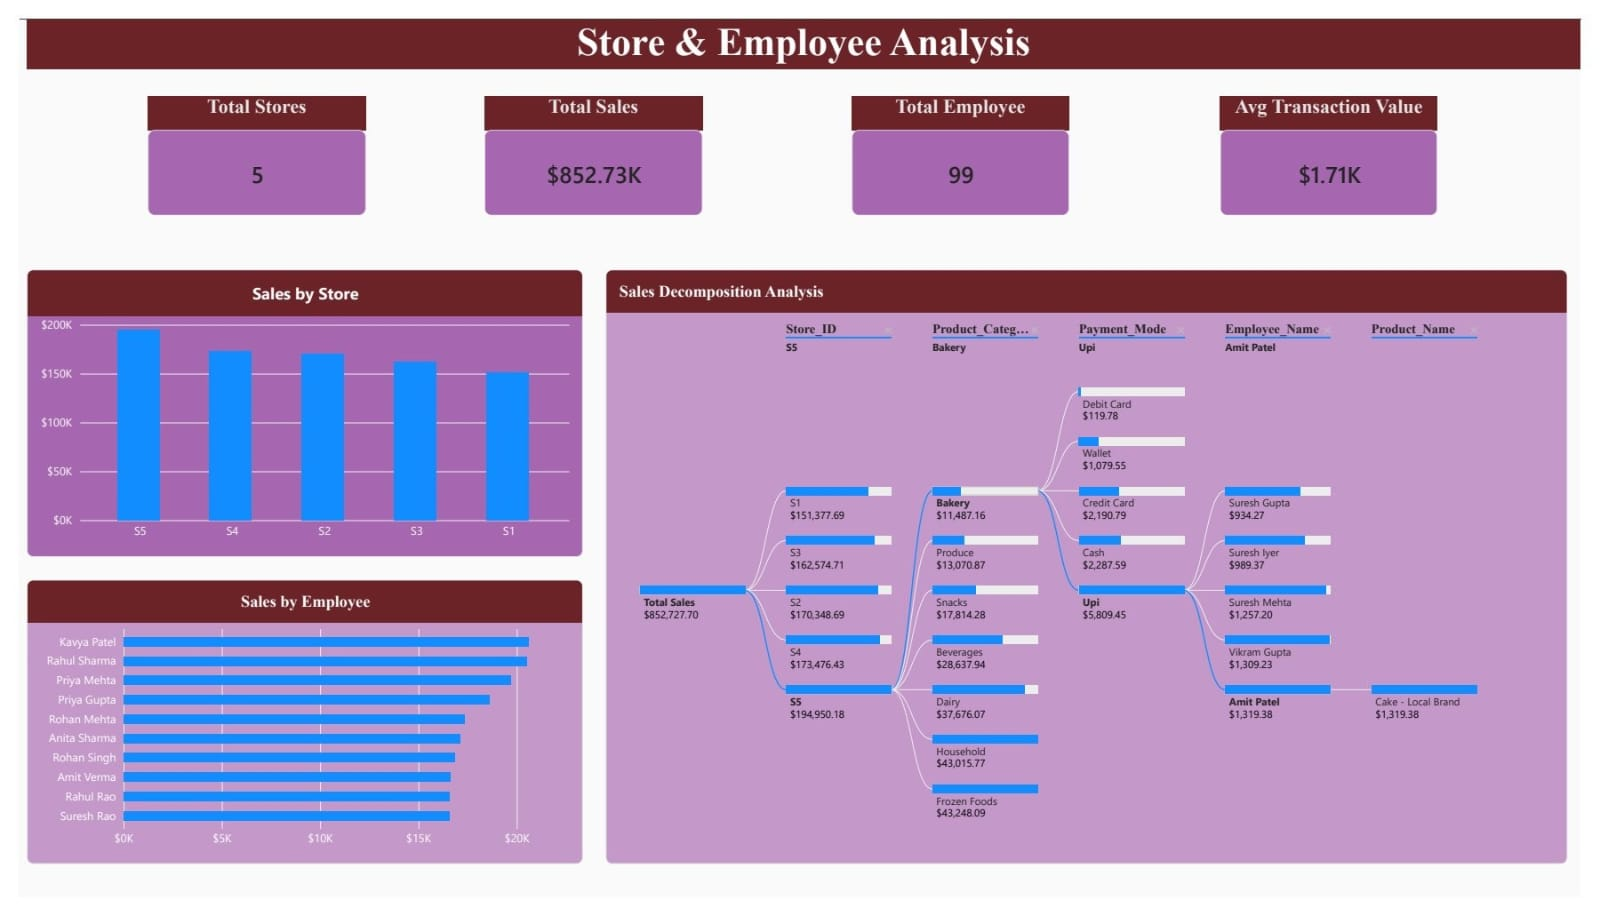

This screenshot's page, from the dashboard's own definition file:
{"tool":"powerbi","page":{"name":"Store & Employee Analysis","canvas":[1920,1080],"ordinal":2},"visuals":[{"type":"textbox","box":[9.2,0,1911.3,60.5],"z":0},{"type":"cardVisual","title":"Total Stores","fields":{"Data":["Measures Table.Total Stores"]},"box":[157.7,93.5,267.8,148.6],"z":1000},{"type":"cardVisual","title":"Total Sales","fields":{"Data":["Measures Table.Total Sales"]},"box":[572.3,93.5,267.8,148.6],"z":2000},{"type":"cardVisual","title":"Total Employee","fields":{"Data":["Measures Table.Total Employees"]},"box":[1023.5,93.5,267.8,148.6],"z":3000},{"type":"cardVisual","title":"Avg Transaction Value","fields":{"Data":["Measures Table.Average Transaction Value"]},"box":[1476.6,93.5,267.8,148.6],"z":4000},{"type":"clusteredColumnChart","title":"Sales by Store","fields":{"Category":["Store.Store_ID"],"Y":["Measures Table.Total Sales"]},"box":[9.2,308.2,684.2,354],"z":5000},{"type":"barChart","title":"Sales by Employee ","fields":{"Category":["Employee.Employee_Name"],"Y":["Measures Table.Total Sales"]},"box":[9.2,689.7,684.2,350.3],"z":6000},{"type":"decompositionTreeVisual","title":"Sales Decomposition Analysis","fields":{"Analyze":["Measures Table.Total Sales"],"ExplainBy":["Store.Store_ID","Product.Product_Category","Payment.Payment_Mode","Employee.Employee_Name","Product.Product_Name"]},"box":[720.9,308.2,1183.1,731.9],"z":7000}]}

Visuals, with their boxes in screenshot pixels (x1, y1, x2, y2), scaled from the page's 1920x1080 canvas onto the 1600x916 screenshot:
textbox: Rect(8, 0, 1599, 51)
"Total Stores" cardVisual: Rect(131, 79, 355, 205)
"Total Sales" cardVisual: Rect(477, 79, 700, 205)
"Total Employee" cardVisual: Rect(853, 79, 1076, 205)
"Avg Transaction Value" cardVisual: Rect(1230, 79, 1454, 205)
"Sales by Store" clusteredColumnChart: Rect(8, 261, 578, 562)
"Sales by Employee " barChart: Rect(8, 585, 578, 882)
"Sales Decomposition Analysis" decompositionTreeVisual: Rect(601, 261, 1587, 882)
